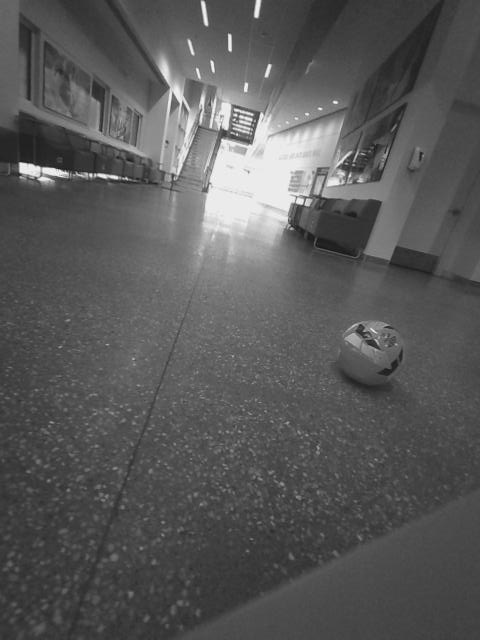ball: (271, 211, 288, 232)
